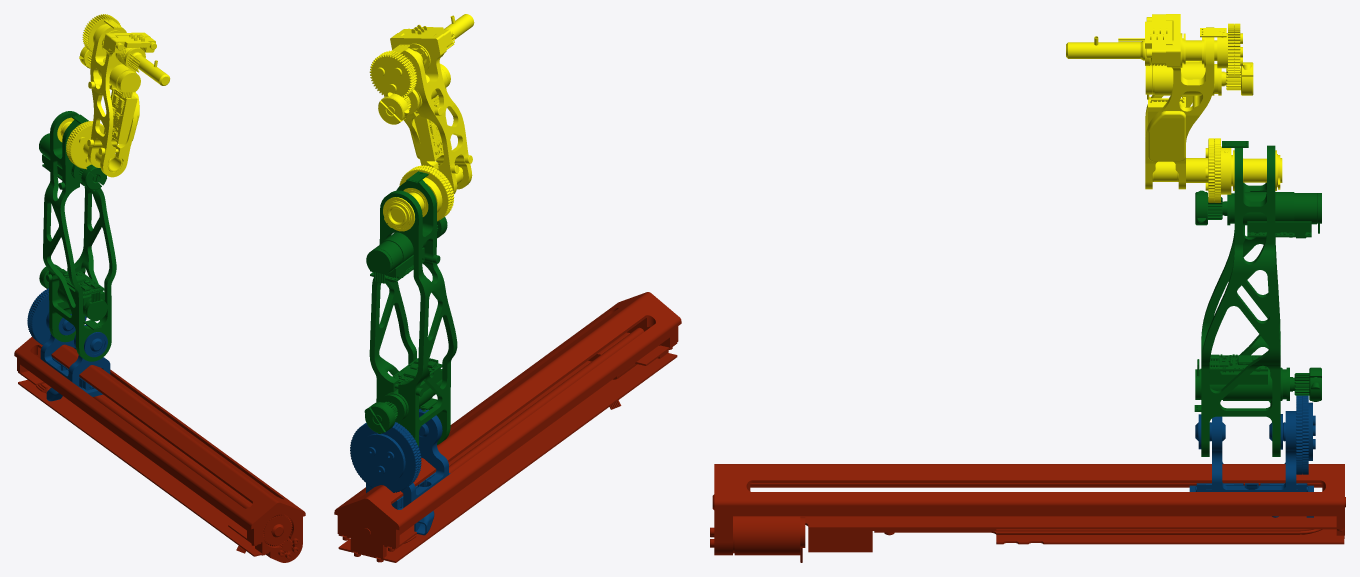
Rendered from Scara.gltf.
The picture shows the model from 3 angles, left to right: view 1: azimuth 30°, elevation 25°; view 2: azimuth 150°, elevation 25°; view 3: azimuth 270°, elevation 25°; orthographic projection. The views are drawn at different scales.
Visible parts, largest first — view 1: Base, Link2, Link3, Link1; view 2: Base, Link2, Link3, Link1; view 3: Base, Link2, Link3, Link1.
Part boxes in pixels (x1,y1,x2,y2): Base: [14, 337, 305, 562]; Link2: [39, 111, 116, 361]; Link3: [57, 14, 170, 177]; Link1: [27, 288, 110, 401]; Base: [334, 292, 681, 562]; Link2: [364, 171, 457, 446]; Link3: [369, 14, 474, 231]; Link1: [350, 408, 450, 535]; Base: [710, 464, 1345, 562]; Link2: [1194, 141, 1321, 456]; Link3: [1066, 14, 1282, 202]; Link1: [1189, 395, 1315, 517].
Bounding box in the file's own units: 0.0515 × 0.2915 × 0.3045.
